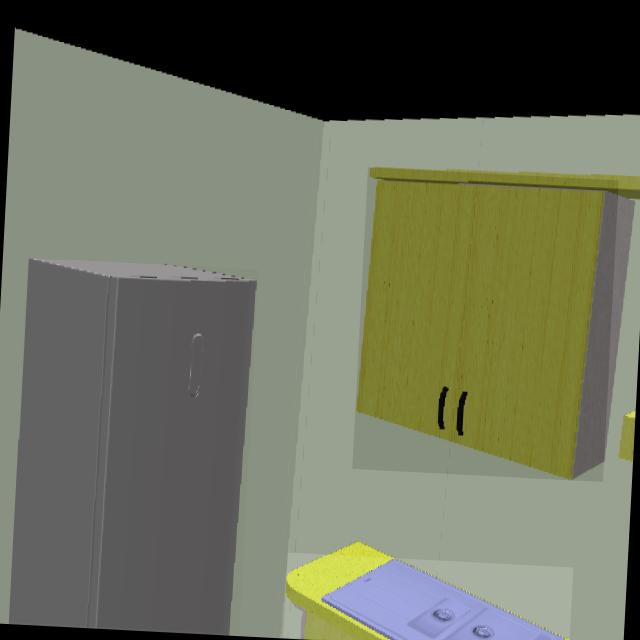cabinet: (355, 170, 613, 480)
fridge: (13, 260, 257, 635)
sink: (286, 559, 563, 640)
